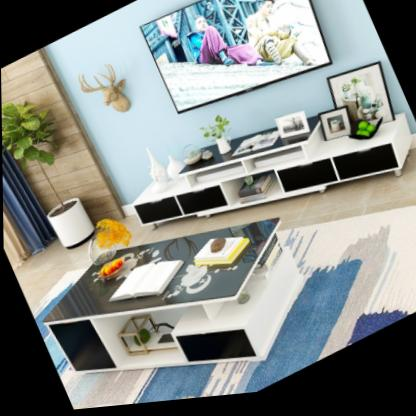Ceramic floor: (131, 145, 416, 245)
Curtains: (1, 68, 64, 270)
TV stand: (132, 112, 413, 228)
